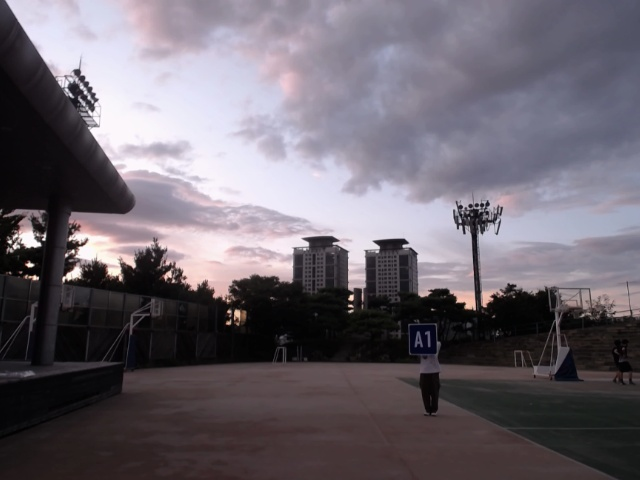delivery_a1: (409, 323, 437, 355)
